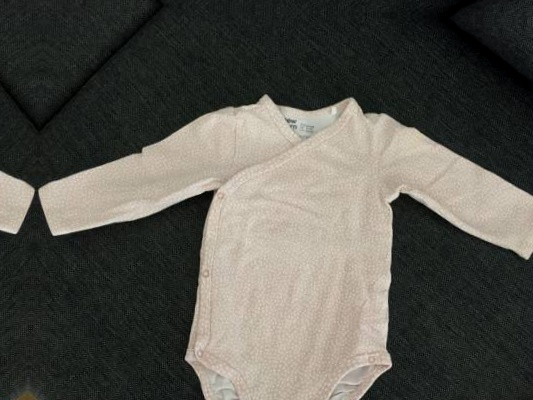Body: (33, 83, 533, 400), (0, 60, 33, 400)
